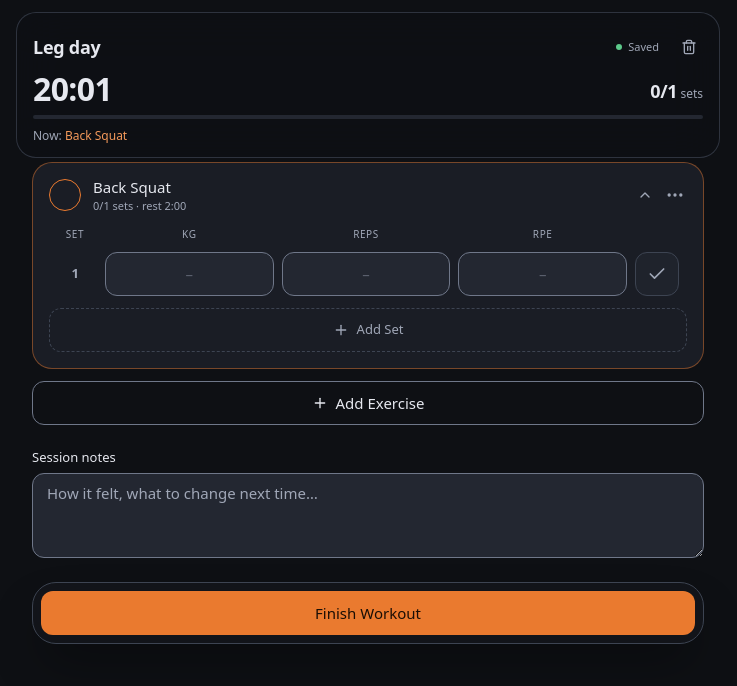
Scenario: SessionPage › won't complete a strength set without weight and reps
Click the button named "Complete Back Squat set 1". click: {"x": 657, "y": 274}
box: [635, 252, 679, 296]
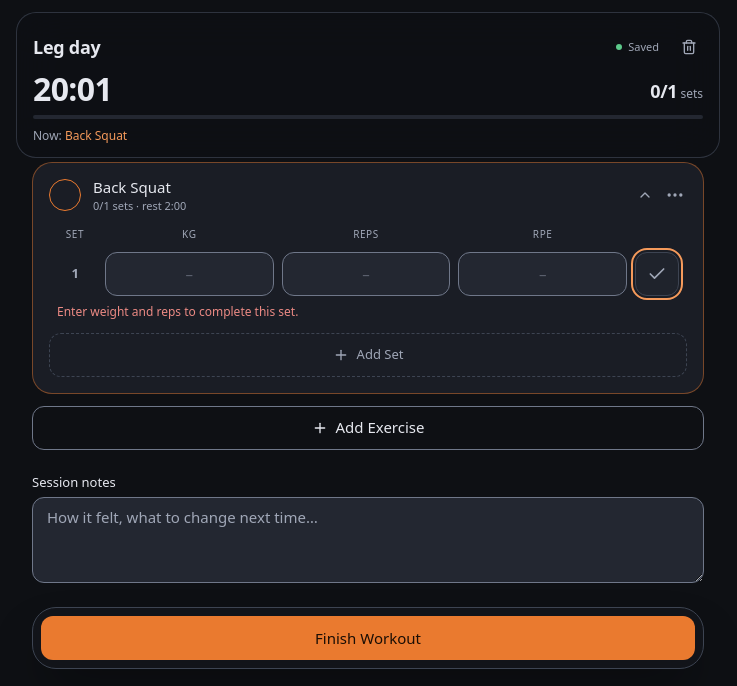
Check: the text "Enter weight and reps to complete this set." is shown, box [57, 303, 298, 320]
